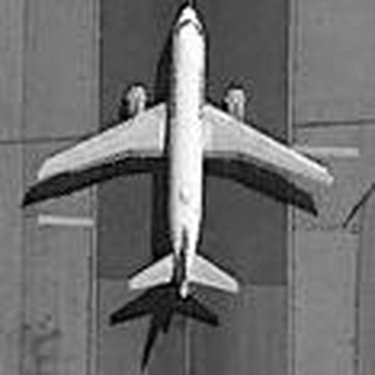airplane: (7, 4, 342, 326)
